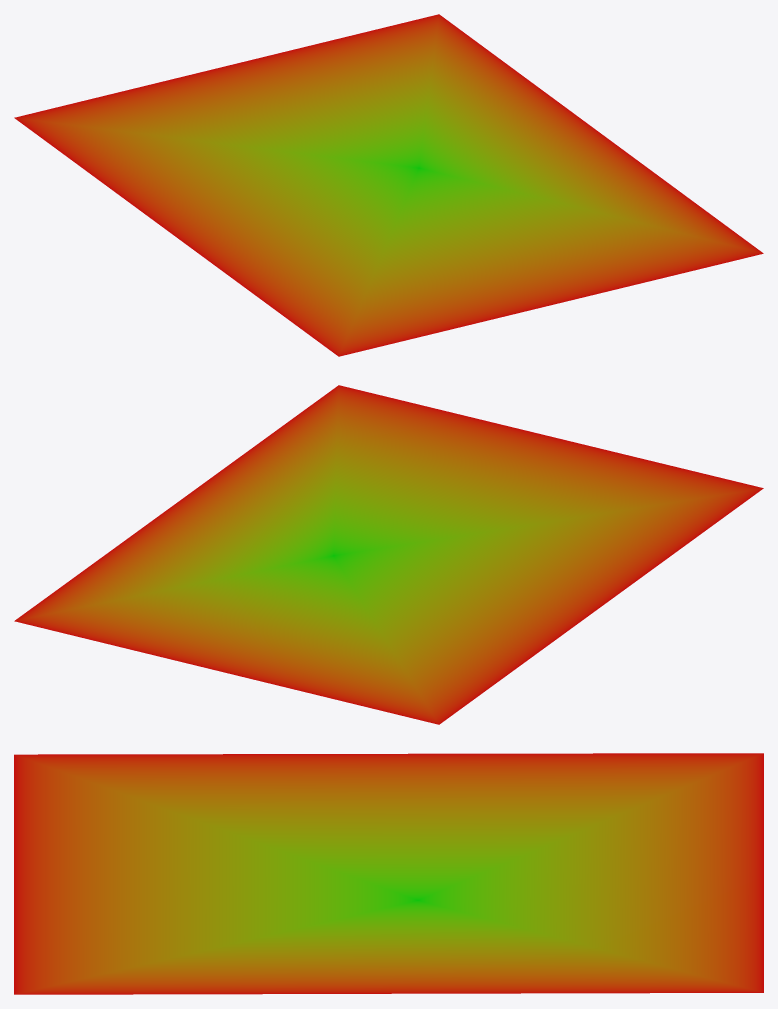
File: Mile-a-minute Vine_LOD3_Var5_sfqns.fbx
The picture shows the model from 3 angles, top to bottom: view 1: azimuth 30°, elevation 25°; view 2: azimuth 150°, elevation 25°; view 3: azimuth 270°, elevation 25°; orthographic projection. The views are drawn at different scales.
Parts seen in each view (by area): view 1: _6ccf_Var5_LOD3; view 2: _6ccf_Var5_LOD3; view 3: _6ccf_Var5_LOD3.
Part boxes in pixels (<box>): _6ccf_Var5_LOD3: <box>14,14,763,356</box>; _6ccf_Var5_LOD3: <box>14,385,763,724</box>; _6ccf_Var5_LOD3: <box>14,753,763,994</box>.
Bounding box in the file's own units: 33.65 × 0.2212 × 44.53.
